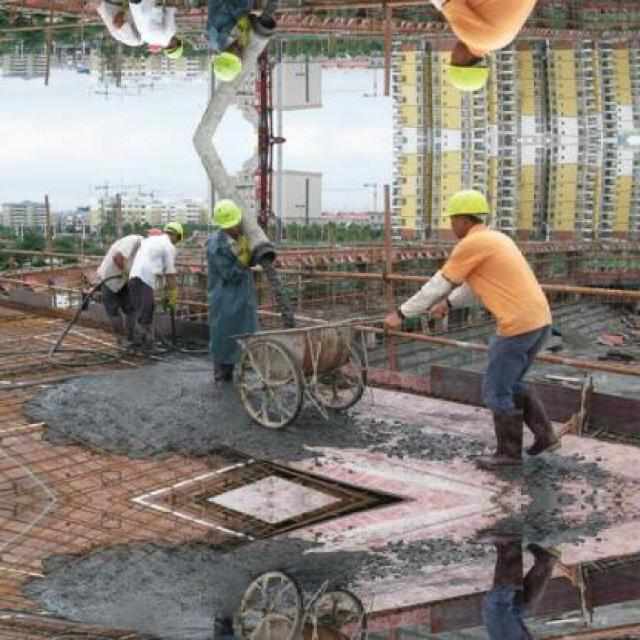helmet: (444, 59, 489, 92), (447, 188, 493, 218), (209, 195, 242, 229), (210, 52, 242, 85), (164, 216, 190, 236)
